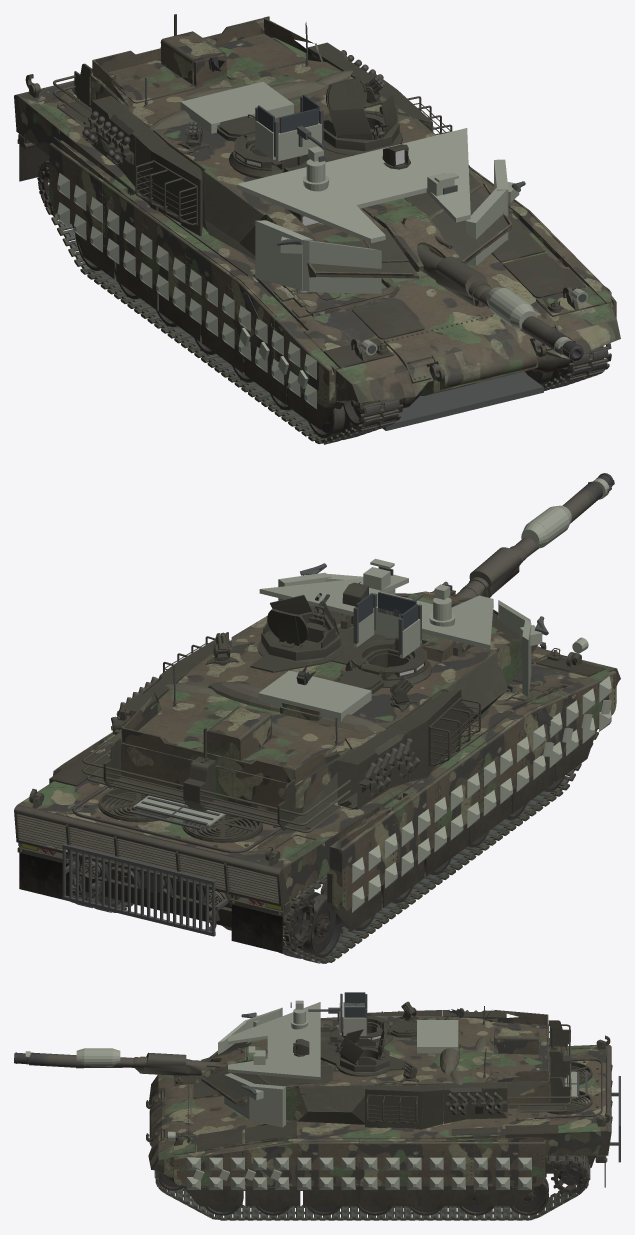
File: m1a2_tusk_dannzjs_variant.glb
3 views of the same model, one above another, from view 1: azimuth 30°, elevation 25°; view 2: azimuth 150°, elevation 25°; view 3: azimuth 270°, elevation 25° (orthographic). The views are drawn at different scales.
Visible parts, largest first — view 1: TurretPivot, Object_11, Object_19, GunPivot, Object_12, RoofCap.001, RoofCap, RoofCap.002, BellyPlate, Object_9, Object_8, CheekFront (+11 smaller); view 2: TurretPivot, Object_11, Object_19, Object_12, GunPivot, RWSCap, Object_9, Object_8, RoofCap.001, Object_21, RoofCap, Object_5 (+9 smaller); view 3: TurretPivot, Object_19, Object_11, Object_12, Object_8, GunPivot, Object_21, RoofCap, RWSCap, RoofCap.001, CheekShoulder.001, Object_9 (+11 smaller).
Part boxes in pixels (x1,y1,x2,y2): TurretPivot: (53,14,512,293); Object_11: (14,38,620,408); Object_19: (49,82,616,407); GunPivot: (362,198,583,360); Object_12: (72,225,606,429); RoofCap.001: (236,167,385,243); RoofCap: (387,128,470,222); RoofCap.002: (325,147,426,208); BellyPlate: (382,372,543,430); Object_9: (39,161,604,443); Object_8: (38,162,611,443); CheekFront: (302,240,381,293); TurretPivot: (82,582,537,832); Object_11: (14,655,620,953); Object_19: (53,647,616,911); Object_12: (327,728,597,931); GunPivot: (407,473,614,607); RWSCap: (258,670,371,721); Object_9: (72,727,598,962); Object_8: (72,729,598,962); RoofCap.001: (422,595,493,649); Object_21: (105,766,564,957); RoofCap: (259,574,408,612); Object_5: (72,710,554,852); TurretPivot: (201,1001,571,1129); Object_19: (149,1059,606,1186); Object_11: (148,1045,612,1187); Object_12: (169,1155,546,1206); Object_8: (155,1155,588,1220); GunPivot: (14,1047,267,1077); Object_21: (205,1179,548,1215); RoofCap: (228,1051,320,1079); RWSCap: (417,1020,458,1053); RoofCap.001: (228,1002,320,1044); CheekShoulder.001: (249,1083,285,1127); Object_9: (155,1155,588,1220).
Bounding box in the file's own units: 5.11 × 3.87 × 12.93.
Materials: 23 (16 with a texture image).
